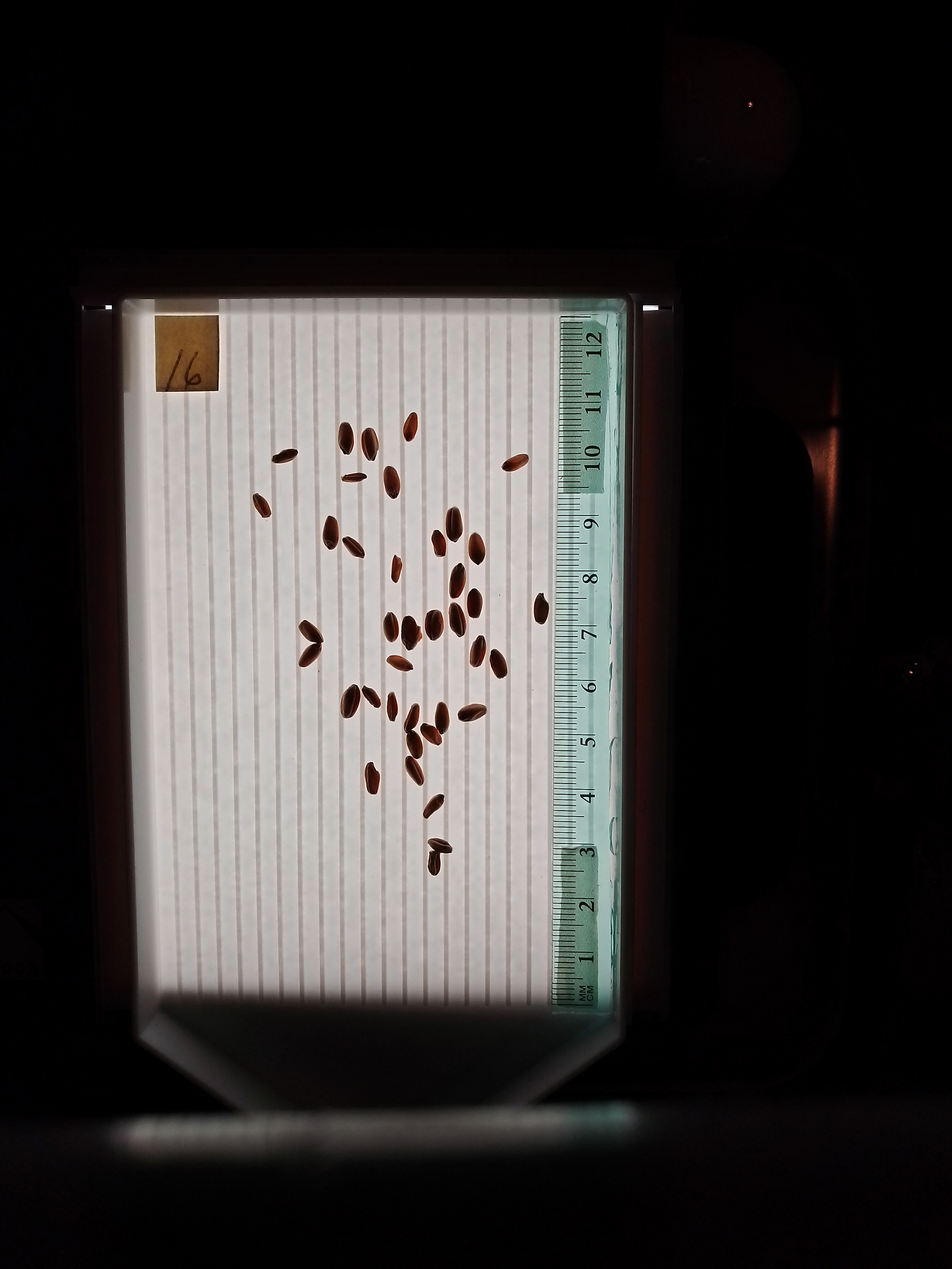seed mask: (401, 616, 421, 649), (340, 685, 360, 718), (361, 427, 379, 460), (449, 564, 466, 598), (299, 621, 323, 645), (446, 507, 462, 542), (468, 533, 486, 564), (323, 517, 340, 549), (449, 604, 466, 636), (338, 422, 354, 455), (299, 644, 321, 667), (425, 611, 443, 639), (458, 704, 486, 722), (405, 757, 423, 785), (384, 467, 400, 498), (470, 636, 486, 667), (364, 763, 380, 794), (534, 594, 550, 624), (424, 794, 444, 818), (467, 589, 483, 618), (491, 650, 507, 679), (343, 536, 364, 558), (503, 454, 528, 472), (434, 703, 449, 733), (387, 655, 413, 672), (421, 724, 442, 745), (253, 494, 271, 518), (403, 413, 418, 441), (407, 732, 423, 758), (273, 447, 297, 464), (384, 614, 399, 641), (405, 704, 420, 730), (363, 687, 380, 708), (432, 531, 446, 556), (428, 851, 441, 875), (387, 694, 398, 720), (391, 556, 401, 582), (343, 473, 365, 482)
